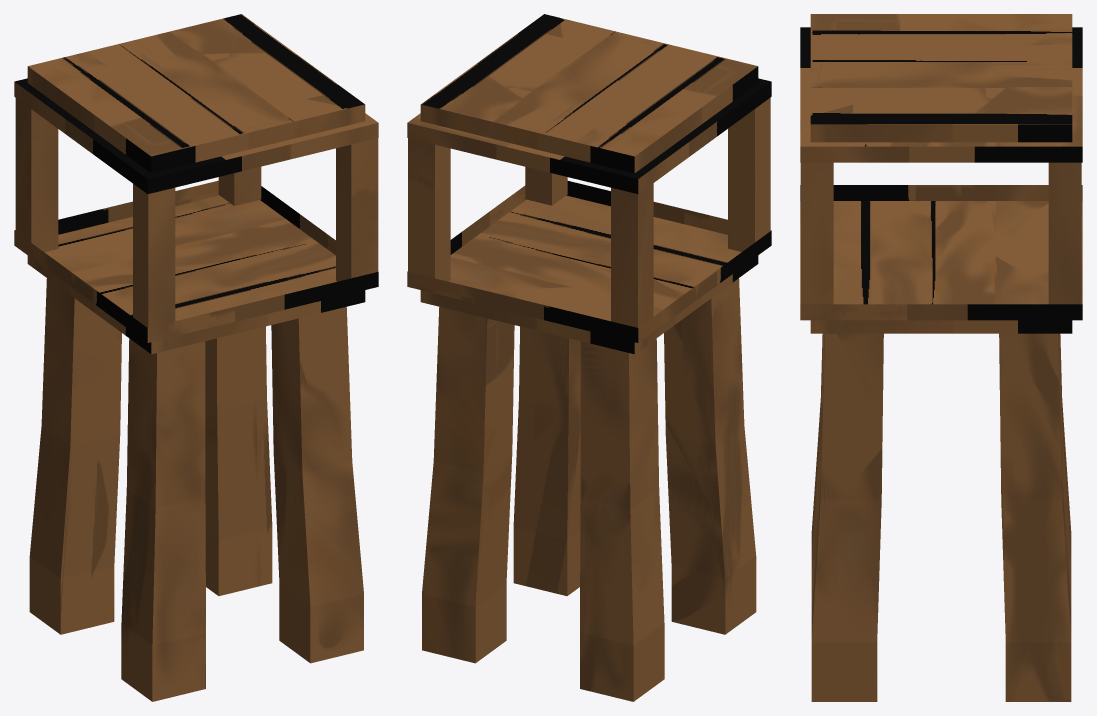
The model's file is new tower.fbx.
3 views of the same model, side by side, from view 1: azimuth 30°, elevation 25°; view 2: azimuth 150°, elevation 25°; view 3: azimuth 270°, elevation 25° (orthographic). The views are drawn at different scales.
Parts seen in each view (by area): view 1: Cube.006; view 2: Cube.006; view 3: Cube.006.
Part boxes in pixels (left/top/right/bottom): Cube.006: left=14, top=14, right=378, bottom=701; Cube.006: left=407, top=14, right=771, bottom=701; Cube.006: left=800, top=14, right=1082, bottom=701.
Bounding box in the file's own units: 216 × 488 × 216.
